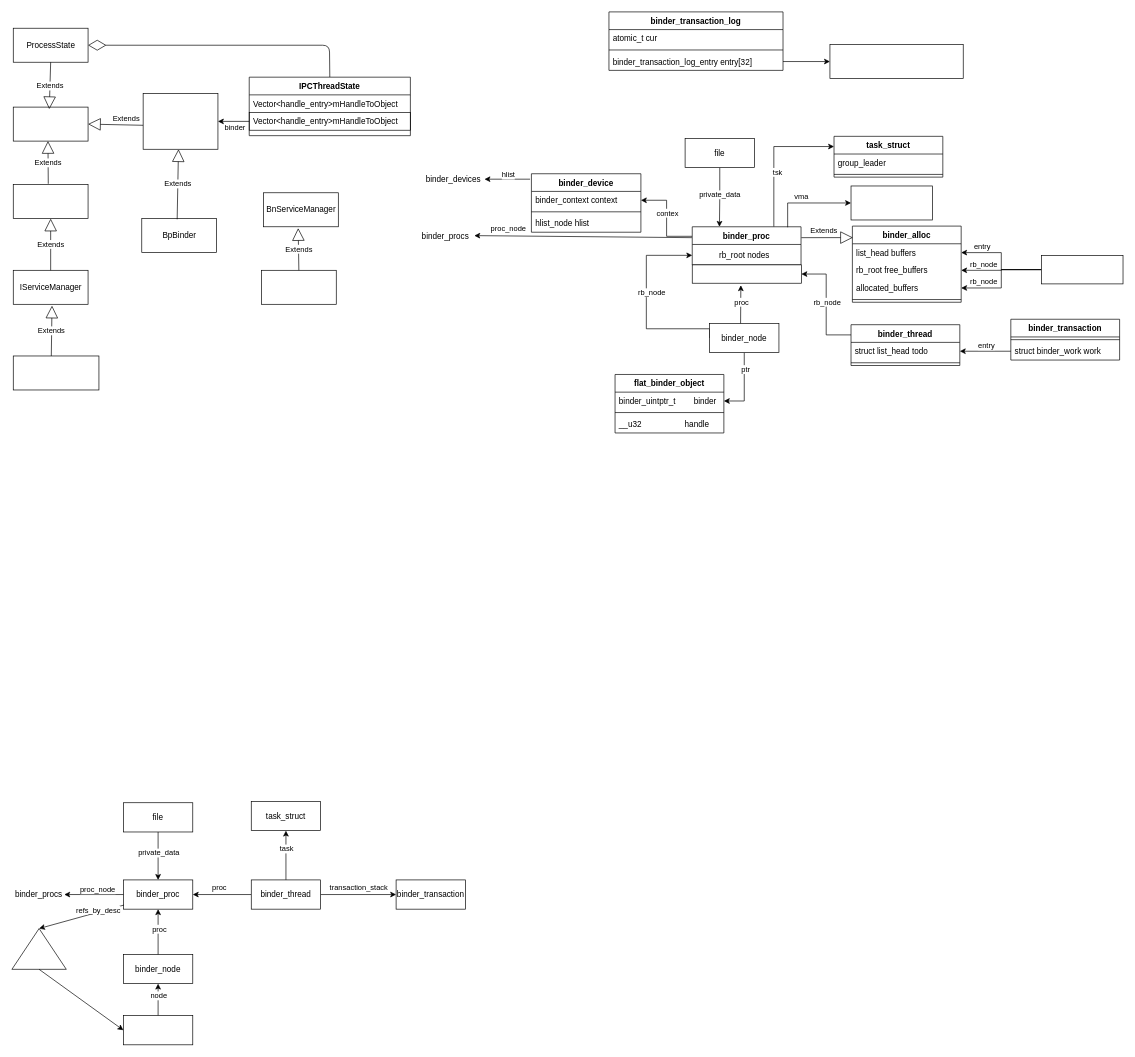
Image size: 1135x1057. Some labels were removed from this diagram. Each missing label, with the centre of its shape:
binder_buffer: [1082,269]
binder_ref: [158,1030]
binder_transaction_log_entry: [896,61]
IBinder: [180,121]
rb_root threads: [746,273]
rb_tree: [38,948]
RefBase: [50,123]
ServiceManager: [298,287]
ServiceManagerShim: [56,372]
vm_area_struct: [891,202]
«interface» IInterface: [50,201]
